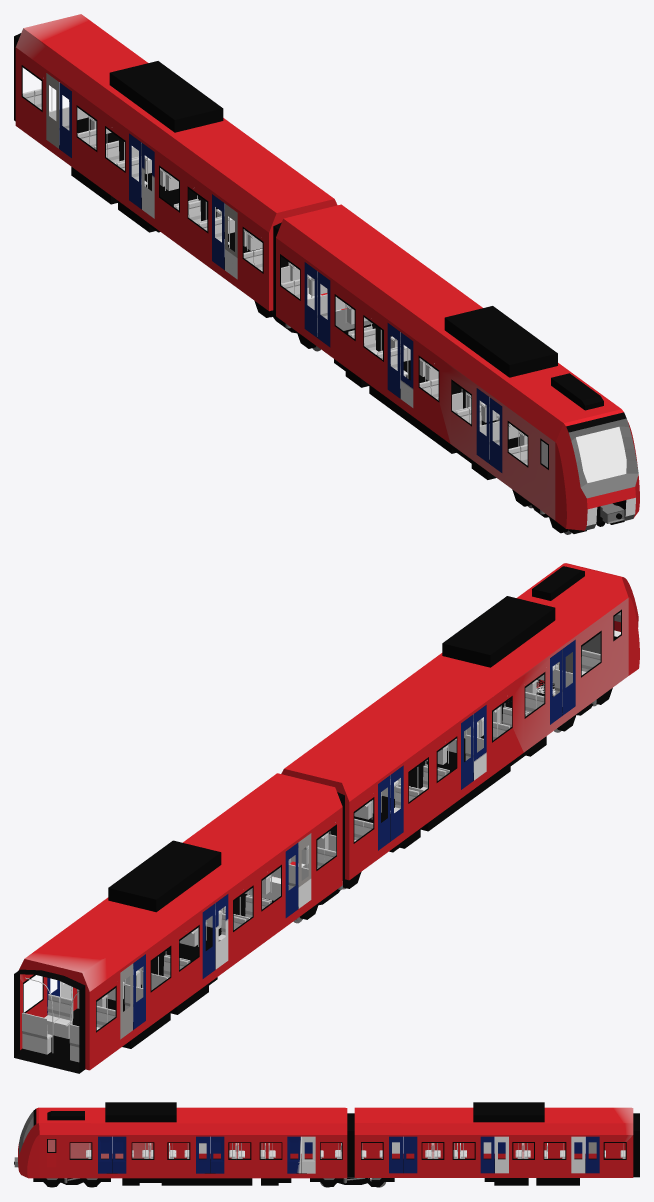
File: train.fbx
The picture shows the model from 3 angles, top to bottom: view 1: azimuth 30°, elevation 25°; view 2: azimuth 150°, elevation 25°; view 3: azimuth 270°, elevation 25°; orthographic projection. The views are drawn at different scales.
Visible parts, largest first — view 1: TrainExterior, Vent.001, Vent, Block, Vent2, Block.007; view 2: TrainExterior, Vent.001, Vent, Block, Vent2; view 3: TrainExterior, Vent, Vent.001, Block, Vent2, Block.006, Block.007, Cube.010.
Boxes of the visible parts, x1=… form: TrainExterior: x1=14, y1=14, x2=639, y2=530; Vent.001: x1=109, y1=61, x2=223, y2=132; Vent: x1=444, y1=306, x2=557, y2=377; Block: x1=369, y1=367, x2=498, y2=453; Vent2: x1=551, y1=373, x2=603, y2=410; Block.007: x1=118, y1=185, x2=206, y2=232; TrainExterior: x1=14, y1=563, x2=639, y2=1073; Vent.001: x1=108, y1=840, x2=221, y2=912; Vent: x1=442, y1=596, x2=555, y2=667; Block: x1=381, y1=744, x2=510, y2=831; Vent2: x1=532, y1=566, x2=584, y2=600; TrainExterior: x1=18, y1=1107, x2=639, y2=1178; Vent: x1=105, y1=1102, x2=176, y2=1122; Vent.001: x1=473, y1=1102, x2=544, y2=1122; Block: x1=161, y1=1160, x2=252, y2=1185; Vent2: x1=47, y1=1111, x2=84, y2=1120; Block.006: x1=536, y1=1178, x2=579, y2=1185; Block.007: x1=494, y1=1160, x2=528, y2=1185; Cube.010: x1=337, y1=1177, x2=370, y2=1184.
Size of the model in its own units: 305 by 534 by 4076.
1 material, 1 textured.
